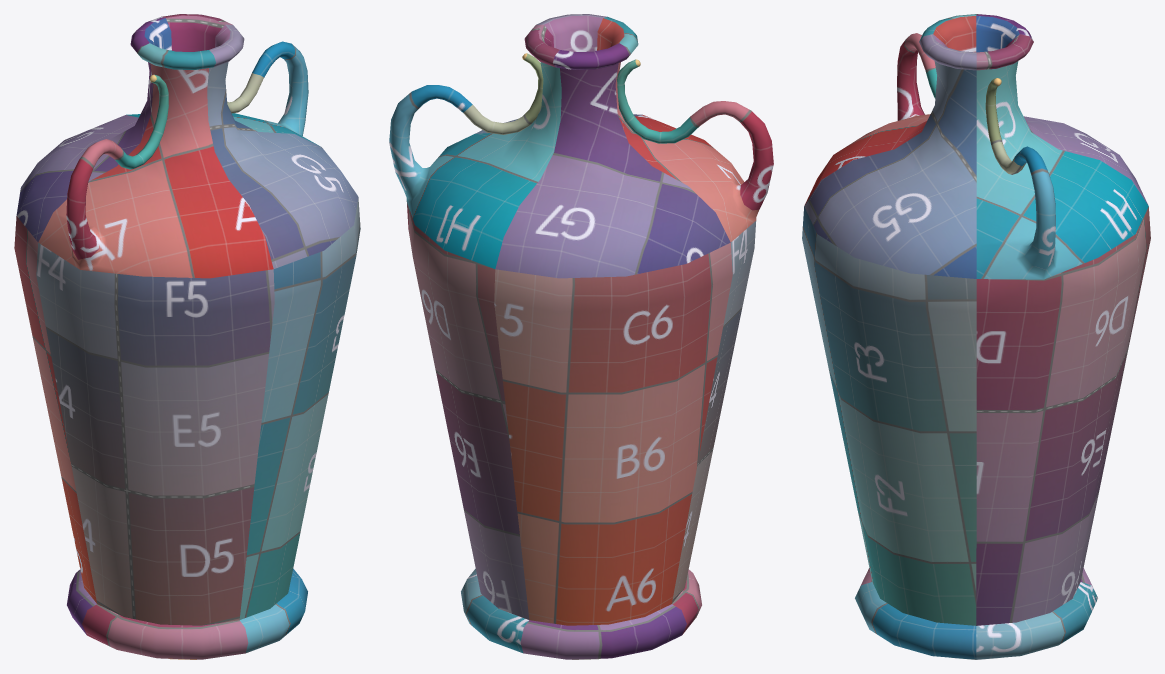
The model's file is MediumVase_SHAT.fbx.
3 renders of one model, left to right at view 1: azimuth 30°, elevation 25°; view 2: azimuth 150°, elevation 25°; view 3: azimuth 270°, elevation 25°, orthographic.
Visible parts, largest first — view 1: MediumVase_SHAT.001; view 2: MediumVase_SHAT.001; view 3: MediumVase_SHAT.001.
Part boxes in pixels (<box>): MediumVase_SHAT.001: <box>14,14,360,659</box>; MediumVase_SHAT.001: <box>389,14,773,659</box>; MediumVase_SHAT.001: <box>802,14,1150,659</box>.
Size of the model in its own units: 1.13 by 2.07 by 1.1.
Materials: 1 (1 with a texture image).
